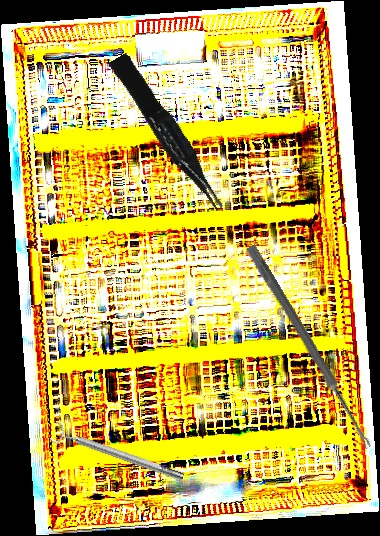Fixation Ring: (49, 420, 187, 489)
Surgical Spoon: (244, 244, 375, 450)
Tissue Forceps: (108, 48, 227, 220)
